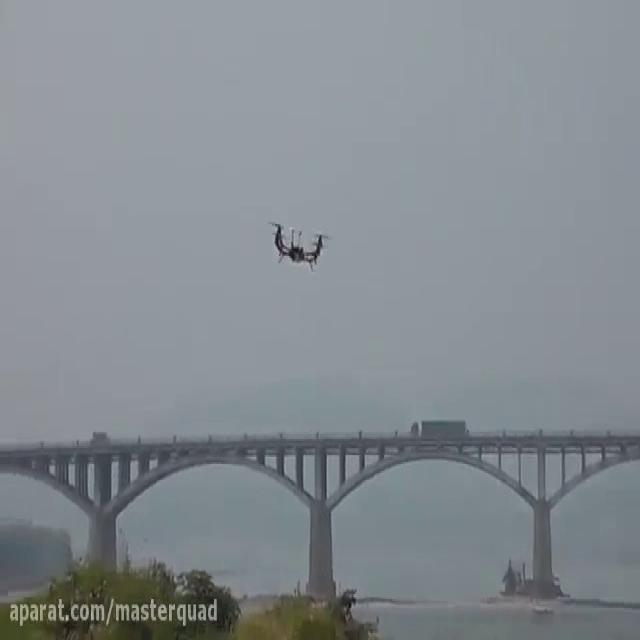drone: (263, 215, 333, 270)
